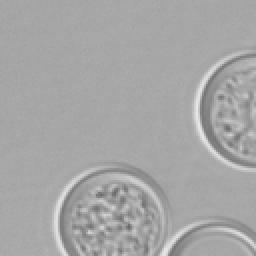picoshell: (56, 164, 170, 254), (194, 50, 254, 170), (158, 218, 254, 254)
